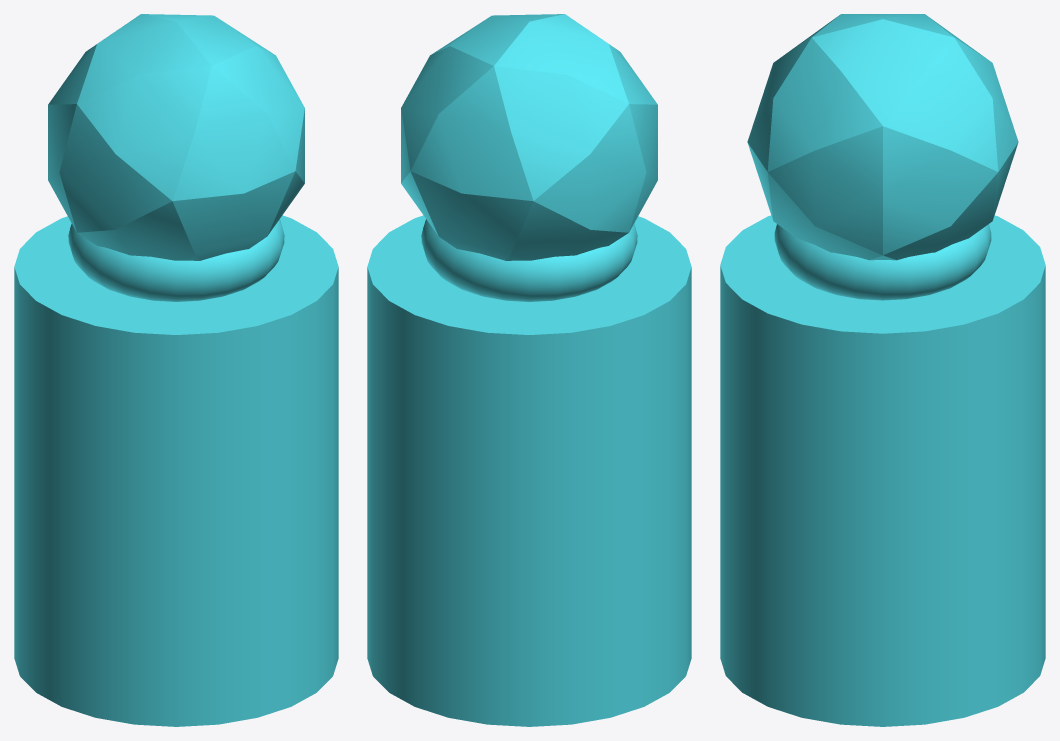
File: PlayerAvatar.glb
3 views of the same model, side by side, from view 1: azimuth 30°, elevation 25°; view 2: azimuth 150°, elevation 25°; view 3: azimuth 270°, elevation 25° (orthographic).
Parts seen in each view (by area): view 1: cylinder, icosphere, torus%; view 2: cylinder, icosphere, torus%; view 3: cylinder, icosphere, torus%.
Boxes of the visible parts, left/top/right/bottom form: cylinder: left=14, top=215, right=338, bottom=726; icosphere: left=48, top=14, right=304, bottom=260; torus%: left=68, top=219, right=284, bottom=301; cylinder: left=367, top=215, right=691, bottom=726; icosphere: left=401, top=14, right=657, bottom=260; torus%: left=421, top=219, right=637, bottom=301; cylinder: left=720, top=215, right=1045, bottom=726; icosphere: left=747, top=14, right=1018, bottom=260; torus%: left=774, top=224, right=991, bottom=300.
Size of the model in its own units: 0.6 by 1.3 by 0.6.
